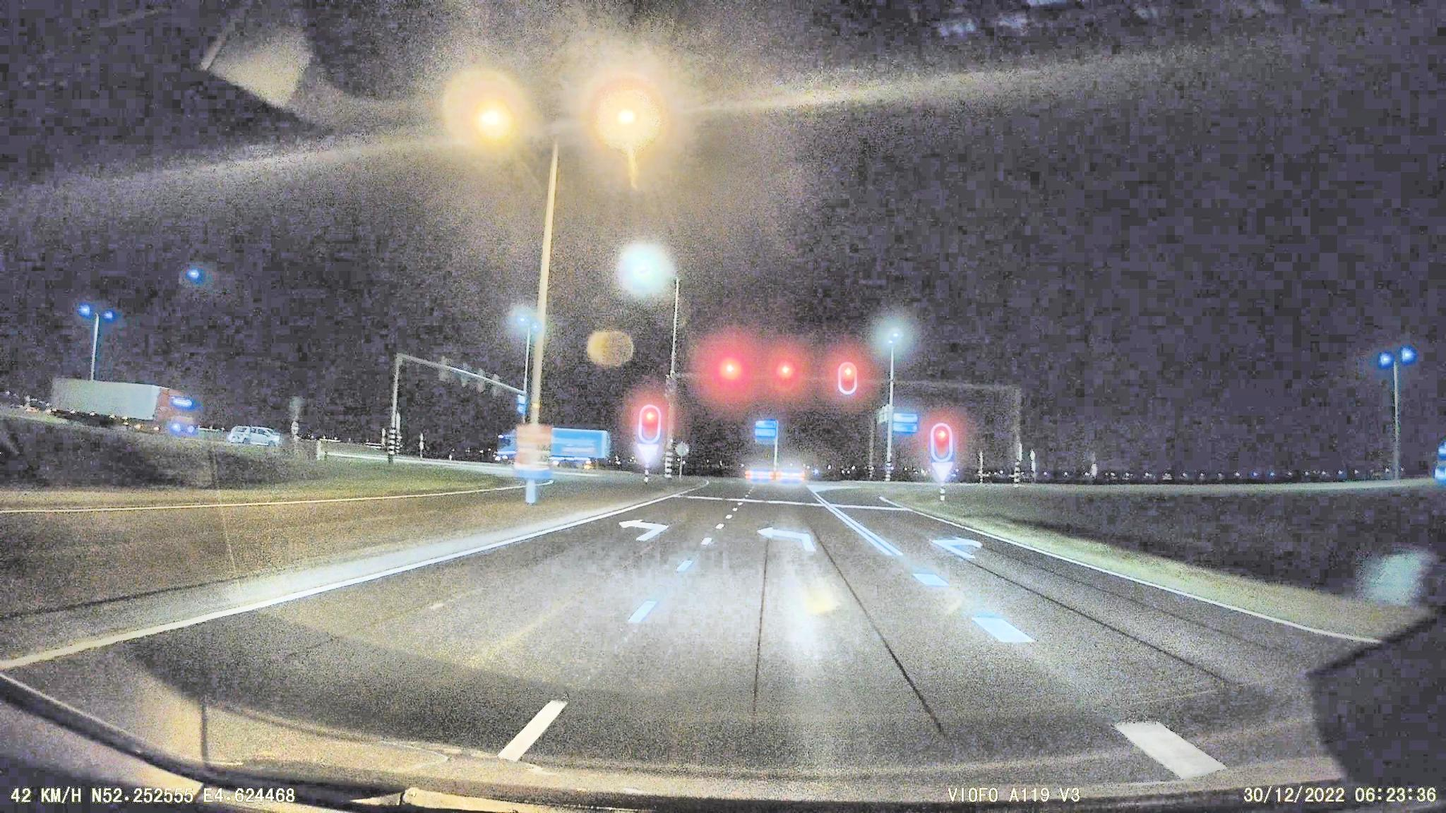Roads: (0, 482, 1446, 813)
